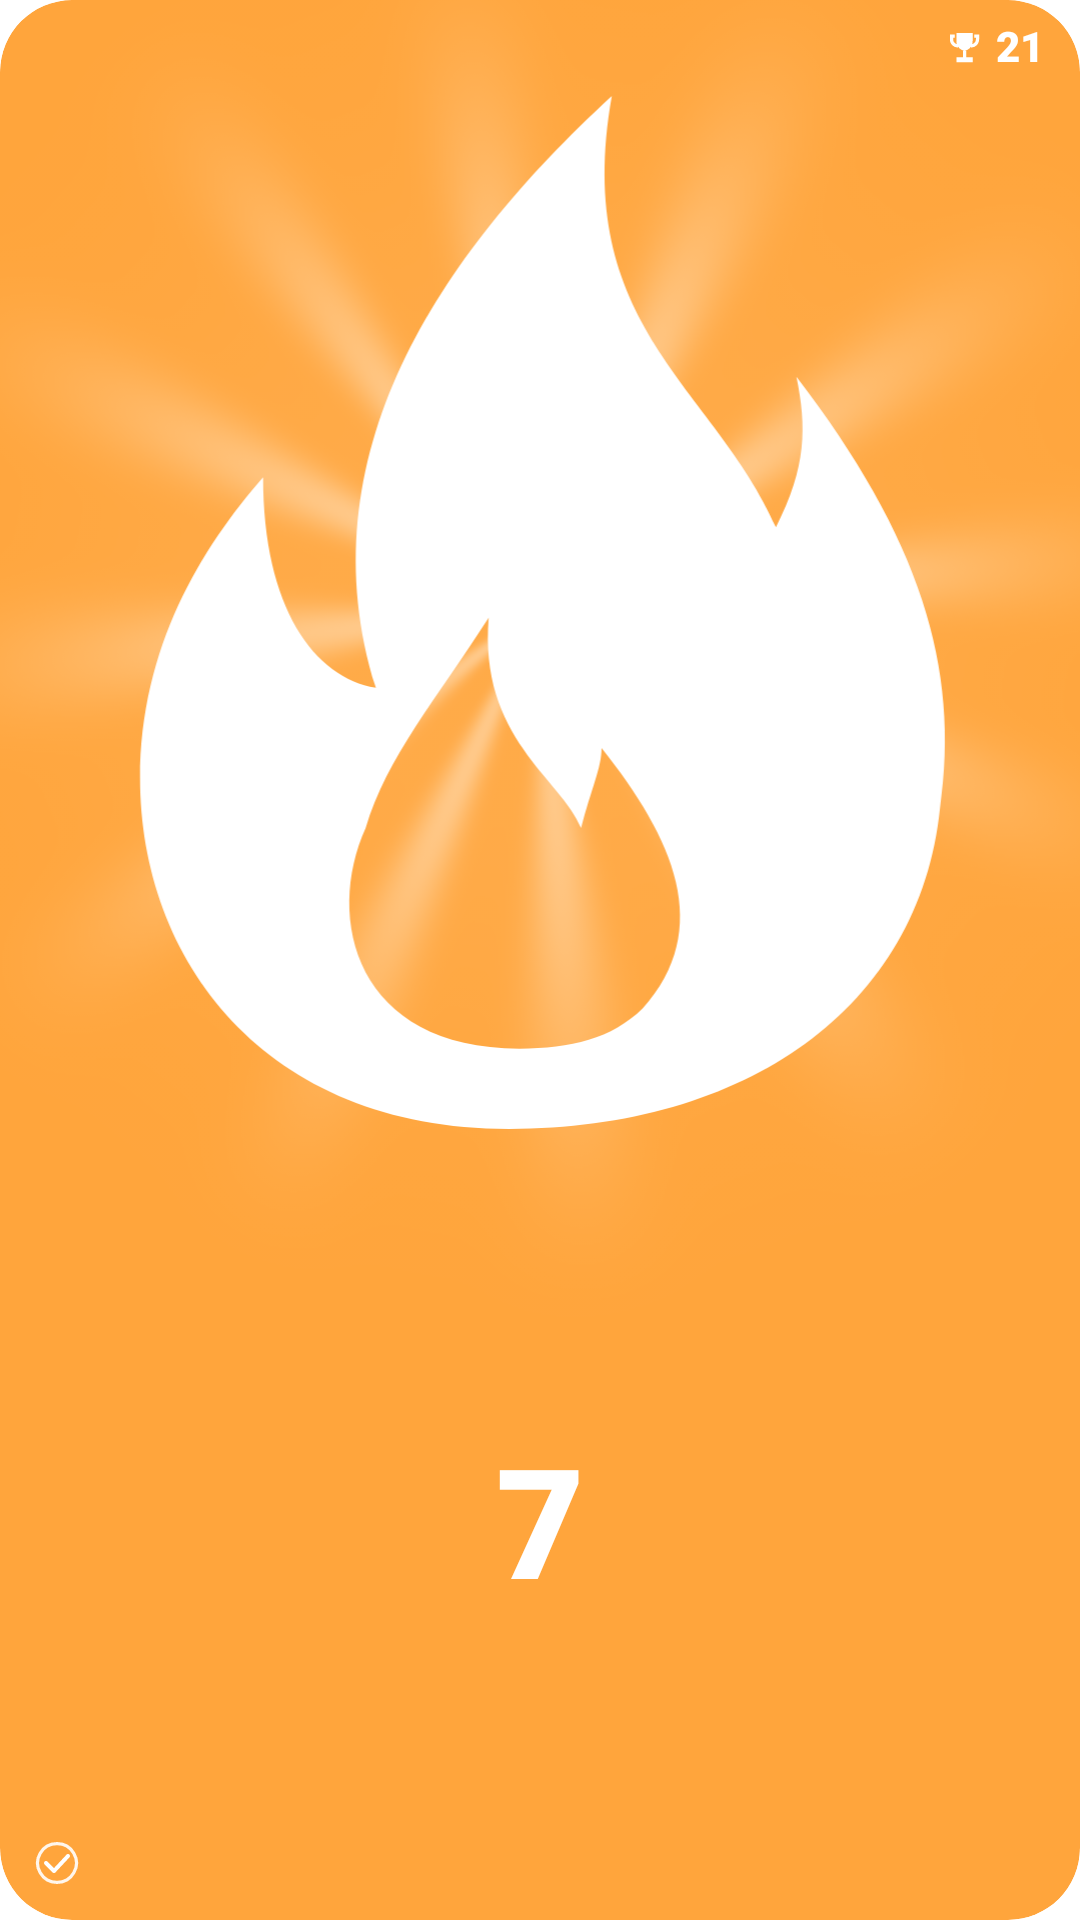

Where to tap for icons on this 1080×1920 app screen, as [x,y]:
streak widget check: [57,1863]
streak widget trophy: [965,48]
